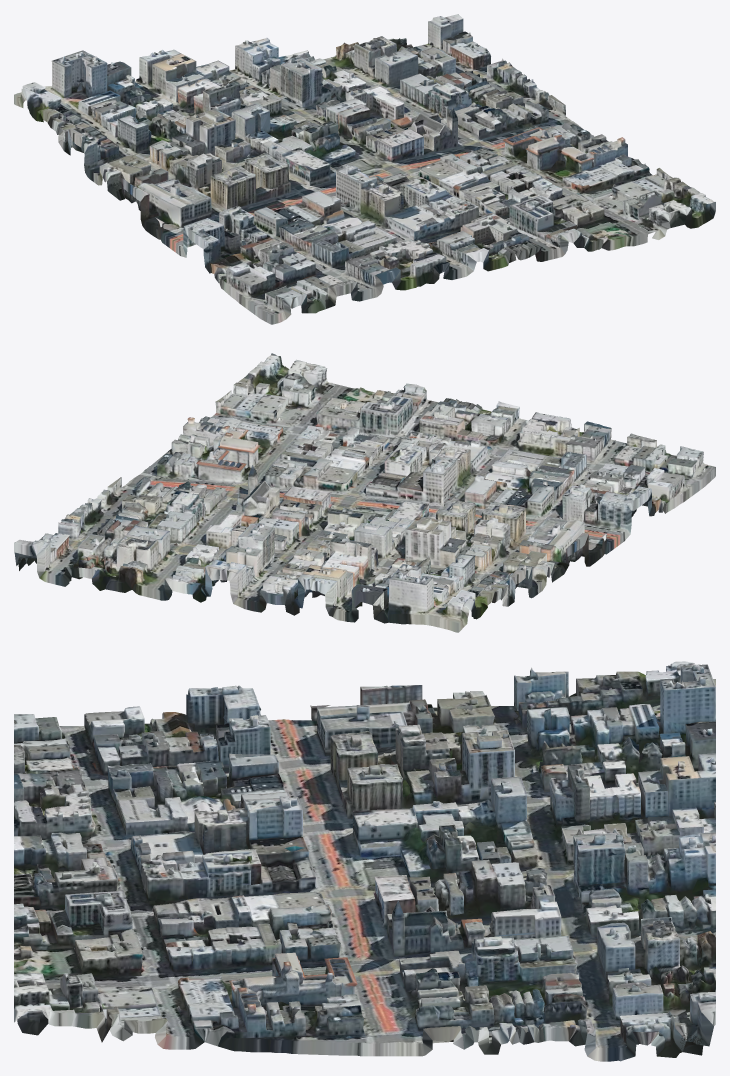
The model's file is z16-10481-25326-h0-yup-uvflip-v3-world.glb.
3 renders of one model, top to bottom at view 1: azimuth 30°, elevation 25°; view 2: azimuth 150°, elevation 25°; view 3: azimuth 270°, elevation 25°, orthographic. The views are drawn at different scales.
Size of the model in its own units: 483 by 98.56 by 485.
1 material, 1 textured.
